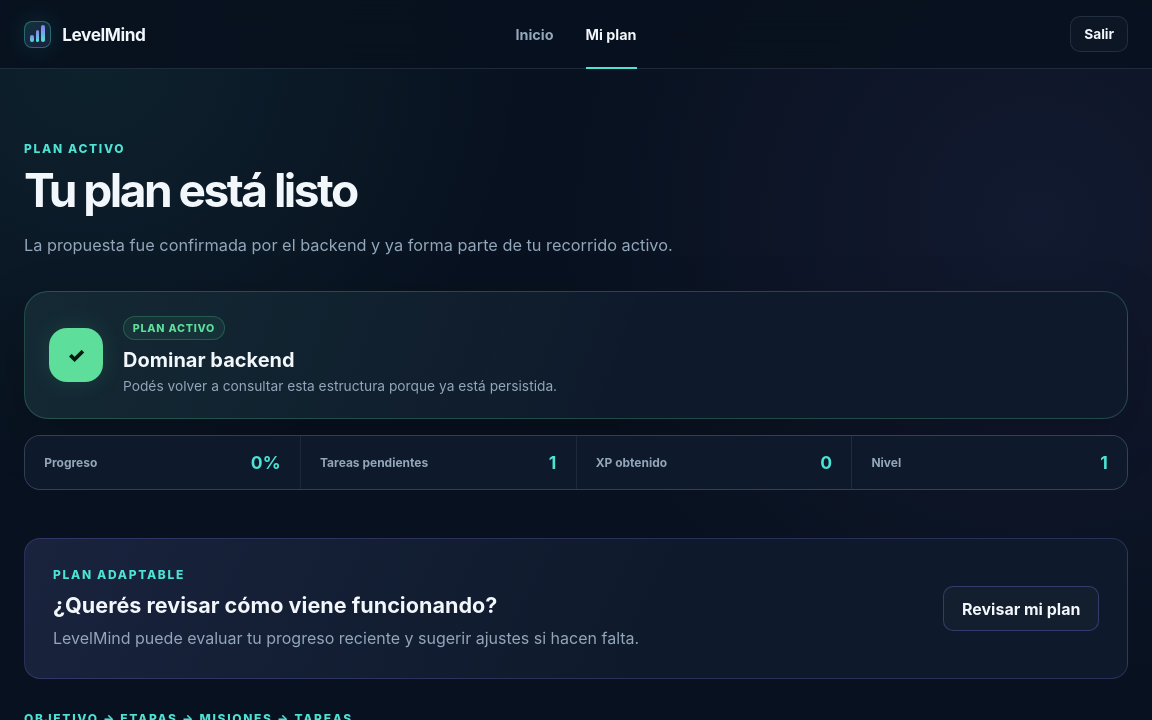
Test case: adaptation HITL flow › renders every supported change in human language and no raw JSON
Click the button "Revisar mi plan".
click(1021, 609)  # box [943,586,1099,631]
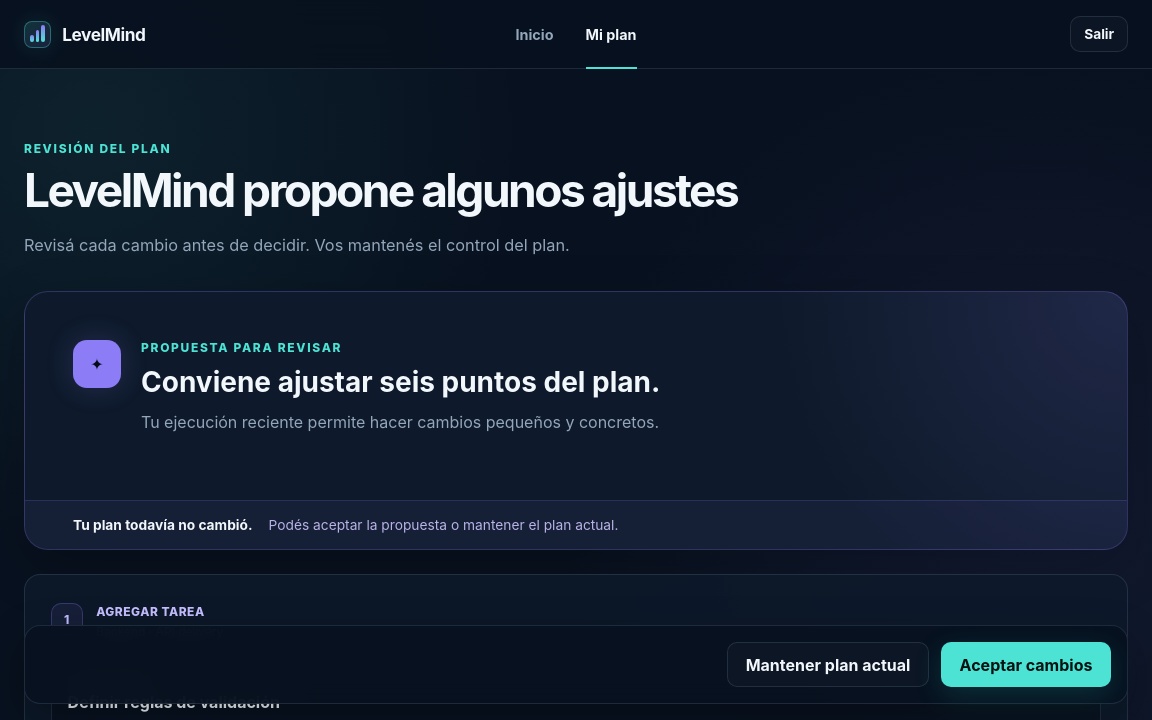
Now the heading "LevelMind propone algunos ajustes" is shown, box [24,166,737,216]
Now the text "Agregar tarea" is shown, box [96,604,205,619]
Now the text "Definir reglas de validación" is shown, box [68,692,280,712]
